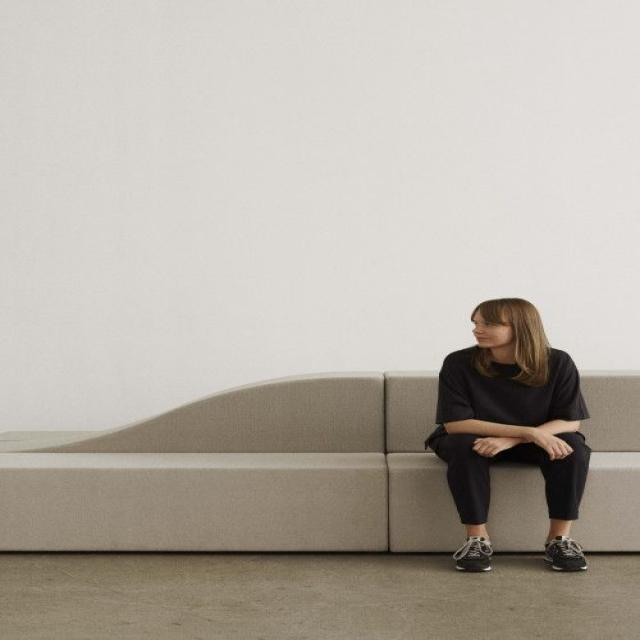obstacle: (0, 368, 639, 556)
person: (424, 297, 591, 573)
